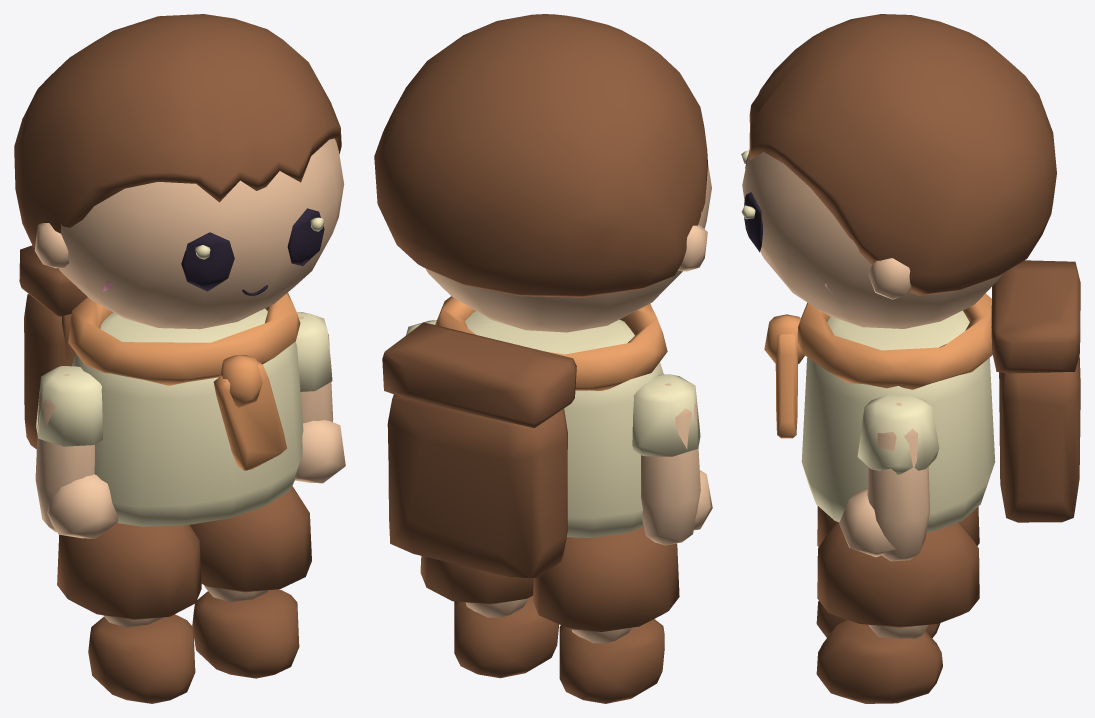
File: player_human.glb
The picture shows the model from 3 angles, left to right: view 1: azimuth 30°, elevation 25°; view 2: azimuth 150°, elevation 25°; view 3: azimuth 270°, elevation 25°; orthographic projection. The views are drawn at different scales.
Visible parts, largest first — view 1: Head, Body, ArmR, LegL, LegR, ArmL; view 2: Head, Body, ArmR, LegR, LegL; view 3: Head, Body, ArmL, LegL, LegR.
Part boxes in pixels (box(x1,y1,x2,y2)): Head: box(14, 14, 344, 329); Body: box(19, 245, 311, 619); ArmR: box(35, 366, 118, 538); LegL: box(192, 585, 299, 678); LegR: box(88, 614, 195, 703); ArmL: box(295, 312, 345, 483); Head: box(374, 14, 711, 332); Body: box(382, 296, 679, 631); ArmR: box(632, 374, 712, 545); LegR: box(559, 619, 664, 703); LegL: box(454, 595, 558, 678); Head: box(741, 14, 1056, 328); Body: box(764, 260, 1080, 627); ArmL: box(839, 395, 939, 561); LegL: box(816, 619, 942, 703); LegR: box(816, 601, 940, 638).
Bounding box in the file's own units: 0.46 × 0.95 × 0.4564.
